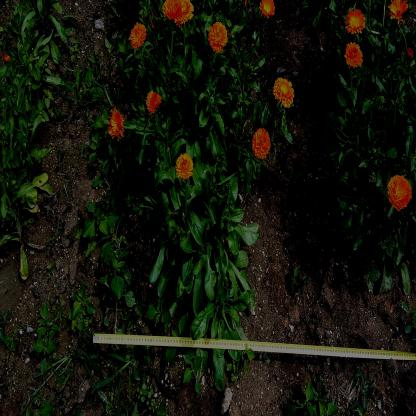marigold: (389, 175, 410, 213), (275, 78, 293, 106), (347, 9, 365, 36), (209, 22, 226, 49), (254, 130, 270, 158), (177, 155, 193, 178), (389, 1, 407, 21), (132, 21, 146, 45), (146, 92, 160, 114), (175, 2, 193, 18), (163, 0, 181, 16)
